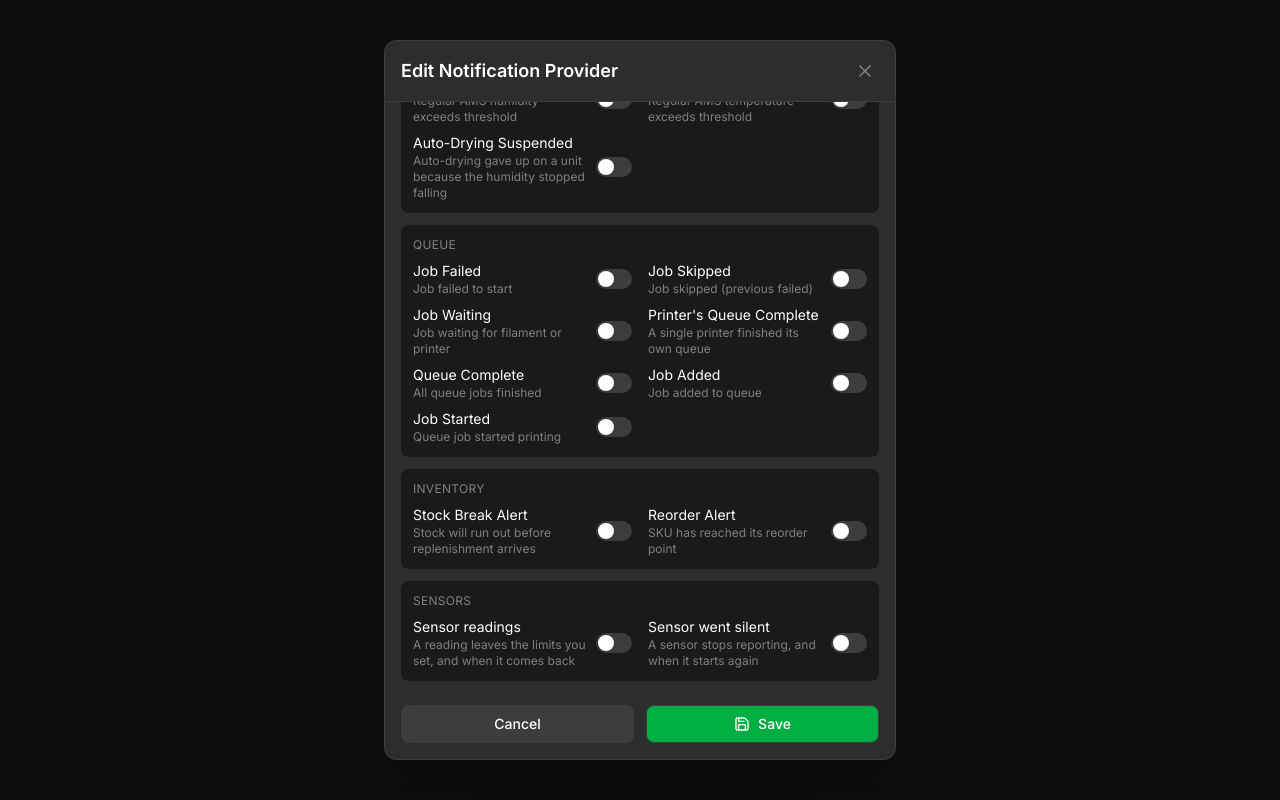
Test: AddNotificationModal — Home Assistant custom data › refuses malformed JSON before it can be saved
(page scrolled)
Click the button "Save".
click(762, 724)  # box x1=646 y1=705 x2=879 y2=743
(page scrolled)
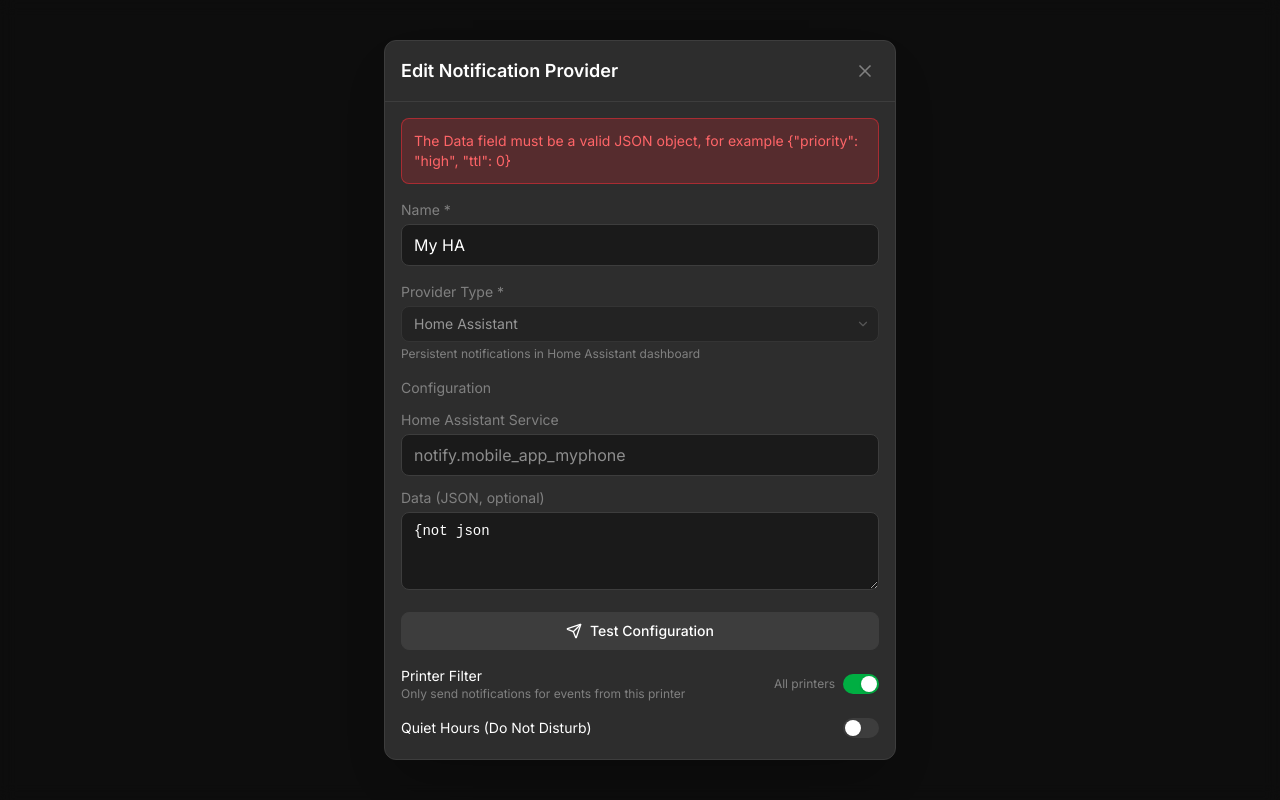
Check: the text "valid JSON object" is shown, box x1=414 y1=132 x2=858 y2=169
